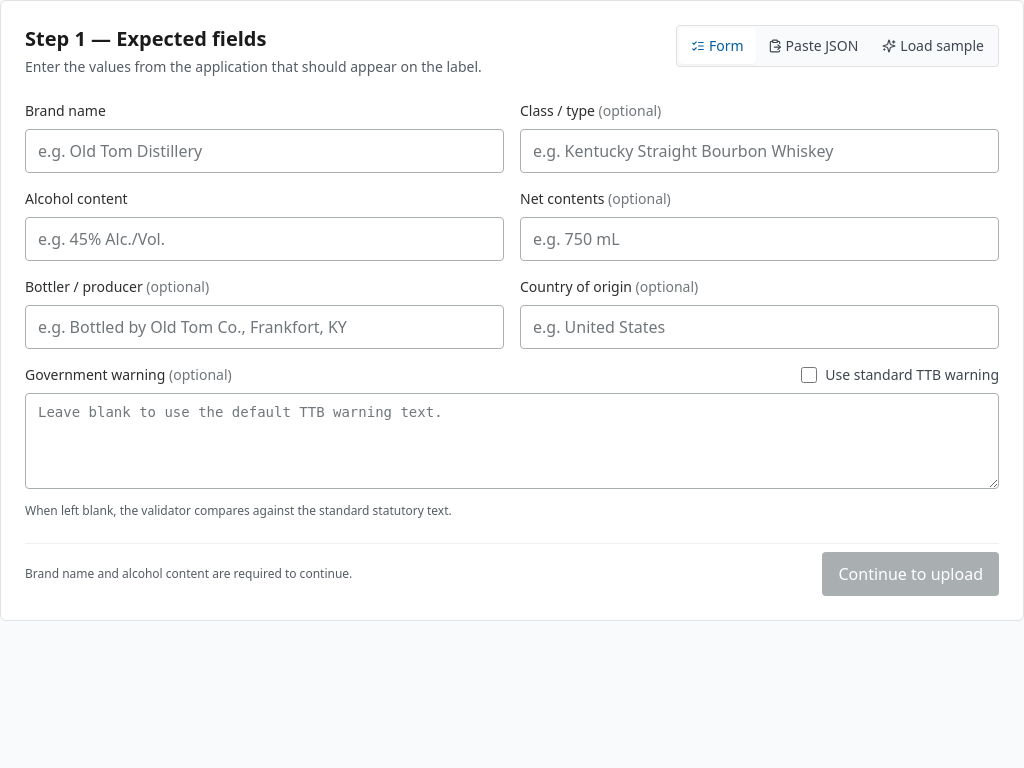
Test: <ExpectedFieldsForm> › disables Continue until brand_name AND alcohol_content are filled
Expected: the button with test id "button-continue-to-upload" is disabled, [822,552,999,596]
Type "Old Tom Distillery" into the field with test id "input-brand_name" at point(264, 151), box [25,129,504,173]
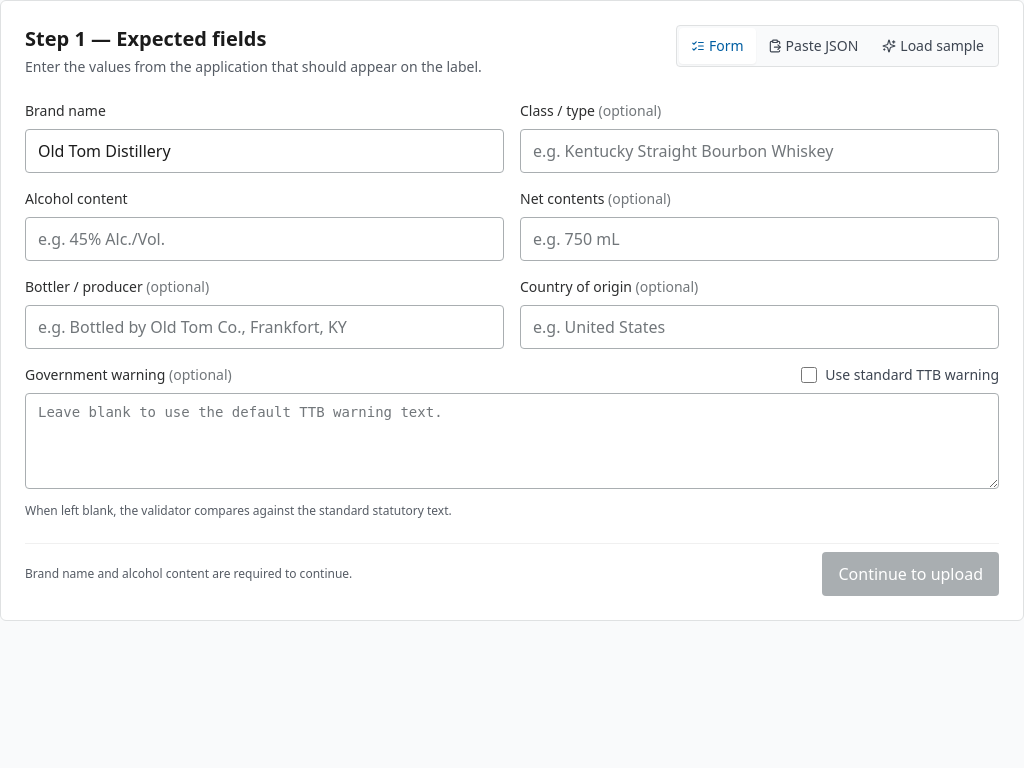
Expected: the button with test id "button-continue-to-upload" is disabled, [822,552,999,596]
Type "45% Alc./Vol." into the field with test id "input-alcohol_content" at point(264, 239), box [25,217,504,261]
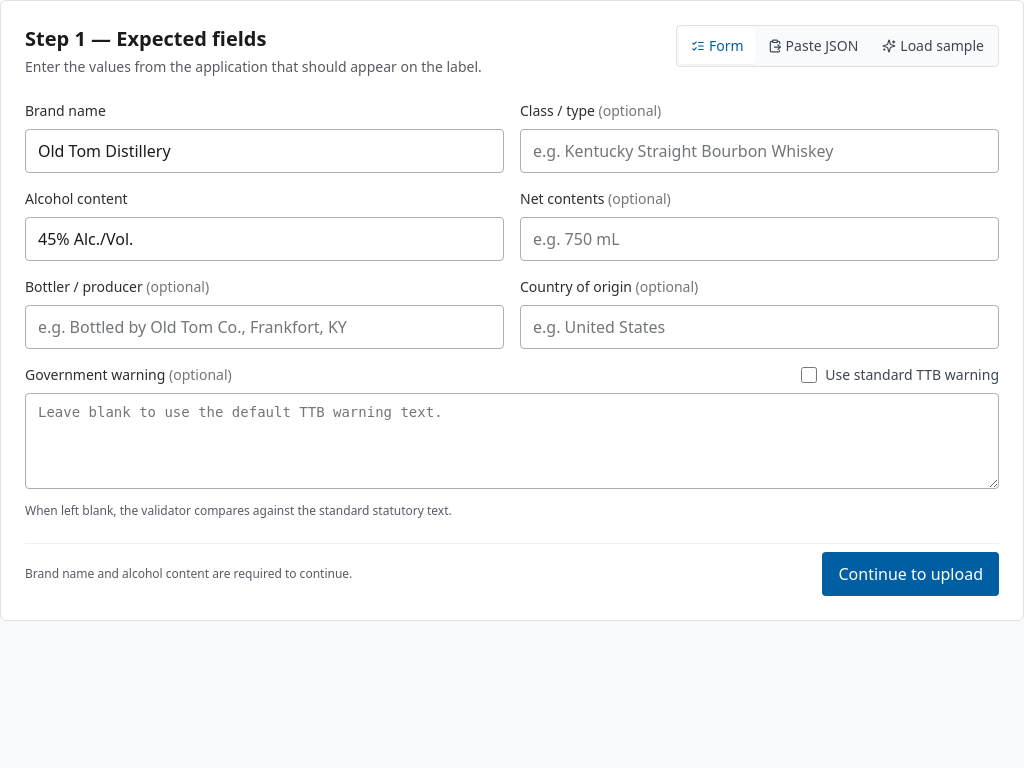
Expected: the button with test id "button-continue-to-upload" is enabled, [822,552,999,596]
